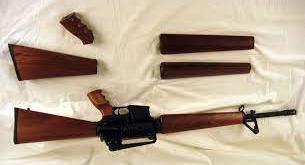larga: (13, 88, 297, 152)
